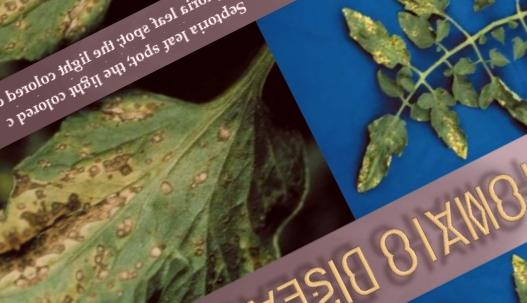Tomato Septoria leaf spot: (0, 31, 340, 303), (325, 96, 431, 203), (406, 72, 486, 171), (335, 0, 424, 88), (355, 0, 457, 43)
